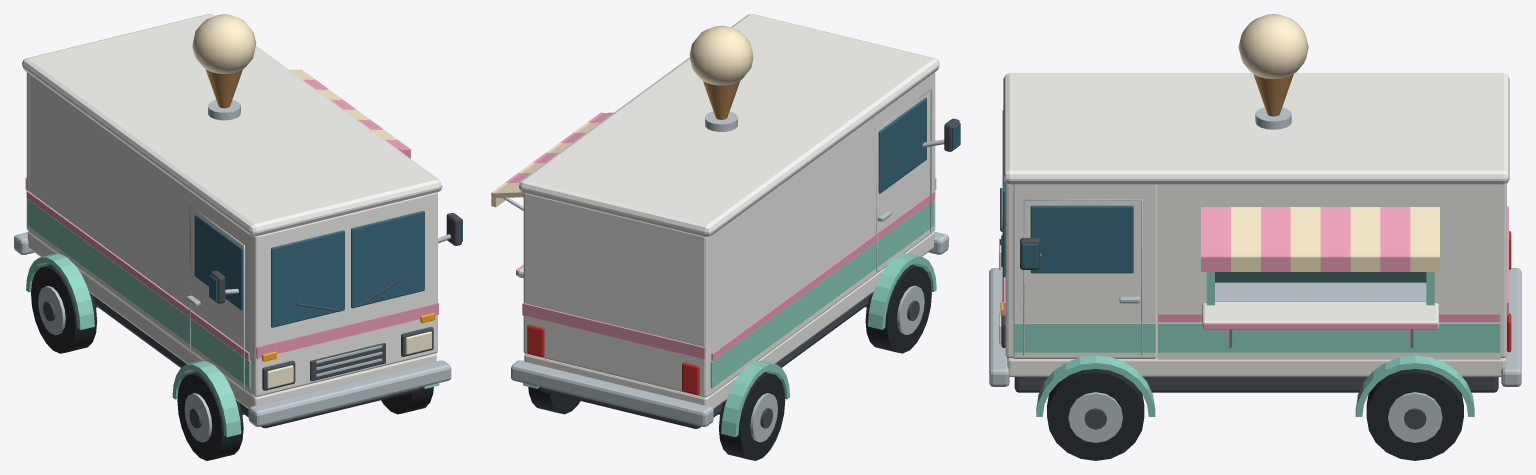
File: ice_cream_truck.glb
The picture shows the model from 3 angles, left to right: view 1: azimuth 30°, elevation 25°; view 2: azimuth 150°, elevation 25°; view 3: azimuth 270°, elevation 25°; orthographic projection. The views are drawn at different scales.
Parts seen in each view (by area): view 1: Van rounded roof, Van left side wall, Van front wall, Left mint body stripe, Cab windshield pane, Cab windshield pane.001, Van front bumper, Van raised floor, Roof sign vanilla scoop, Cab side window, Van left wheel 1 tire, Van left wheel 2 tire (+15 smaller); view 2: Van rounded roof, Van rear wall, Van left side wall, Left mint body stripe, Van rear bumper, Van raised floor, Cab side window, Roof sign vanilla scoop, Van left wheel 1 tire, Van left wheel 2 tire, Rear pink stripe, Left pink belt line (+12 smaller); view 3: Van rounded roof, Van right cab door wall, Service upper header, Service mint body stripe, Cab side window.001, Service rear upright wall, Van raised floor, Van right wheel 1 tire, Van right wheel 2 tire, Serving counter, Service front upright wall, Van chassis (+26 smaller).
Part boxes in pixels (bbox=[...]): Van rounded roof: bbox=[22, 14, 442, 236]; Van left side wall: bbox=[29, 74, 252, 394]; Van front wall: bbox=[251, 192, 437, 396]; Left mint body stripe: bbox=[27, 199, 250, 387]; Cab windshield pane: bbox=[271, 230, 344, 327]; Cab windshield pane.001: bbox=[351, 211, 424, 308]; Van front bumper: bbox=[248, 360, 451, 426]; Van raised floor: bbox=[27, 231, 436, 408]; Roof sign vanilla scoop: bbox=[192, 14, 256, 73]; Cab side window: bbox=[194, 214, 243, 310]; Van left wheel 1 tire: bbox=[177, 372, 243, 460]; Van left wheel 2 tire: bbox=[31, 265, 97, 353]; Van rounded roof: bbox=[519, 14, 939, 236]; Van rear wall: bbox=[523, 192, 709, 397]; Van left side wall: bbox=[709, 74, 932, 395]; Left mint body stripe: bbox=[710, 200, 934, 388]; Van rear bumper: bbox=[511, 360, 713, 426]; Van raised floor: bbox=[524, 231, 934, 408]; Cab side window: bbox=[878, 97, 926, 193]; Roof sign vanilla scoop: bbox=[689, 25, 753, 85]; Van left wheel 1 tire: bbox=[865, 265, 931, 353]; Van left wheel 2 tire: bbox=[719, 372, 785, 460]; Rear pink stripe: bbox=[522, 303, 705, 359]; Left pink belt line: bbox=[711, 191, 935, 360]; Van rounded roof: bbox=[1003, 73, 1509, 184]; Van right cab door wall: bbox=[1013, 184, 1157, 358]; Service upper header: bbox=[1157, 184, 1500, 214]; Service mint body stripe: bbox=[1158, 323, 1500, 352]; Cab side window.001: bbox=[1030, 205, 1133, 273]; Service rear upright wall: bbox=[1434, 212, 1500, 316]; Van raised floor: bbox=[1007, 357, 1505, 376]; Van right wheel 1 tire: bbox=[1047, 368, 1144, 460]; Van right wheel 2 tire: bbox=[1366, 368, 1463, 460]; Serving counter: bbox=[1202, 302, 1438, 328]; Service front upright wall: bbox=[1157, 212, 1206, 320]; Van chassis: bbox=[1014, 377, 1498, 392].
Size of the model in its own units: 3.08 by 3.77 by 4.7.
